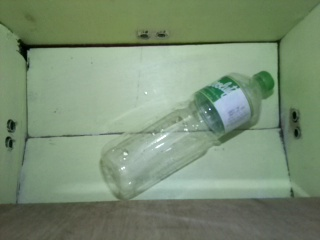bottle: (100, 70, 276, 200)
